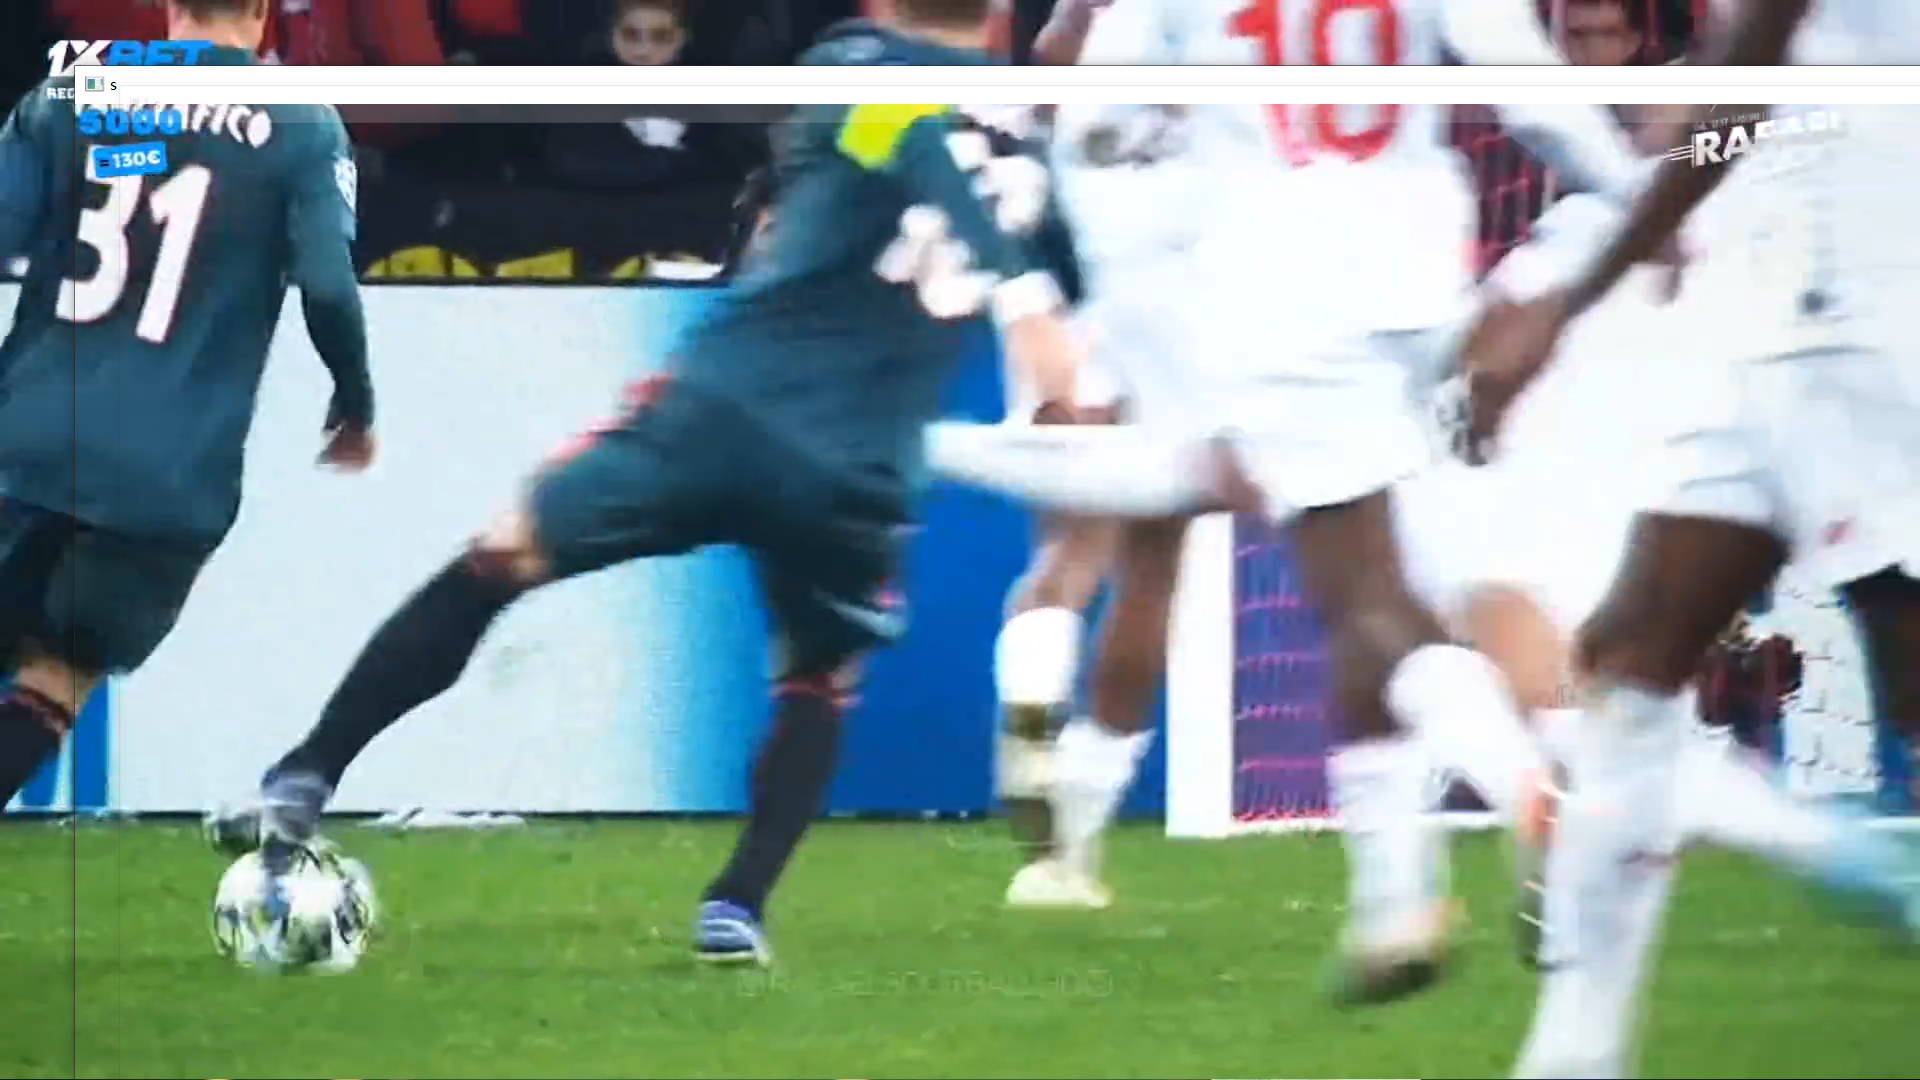ft: (195, 839, 396, 992)
